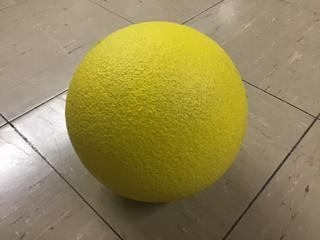power_cell: (66, 20, 248, 207)
